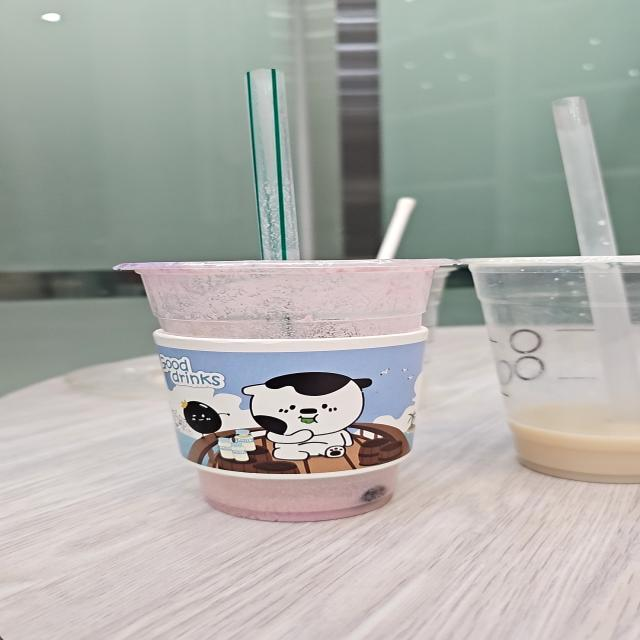cup: (118, 245, 442, 522)
